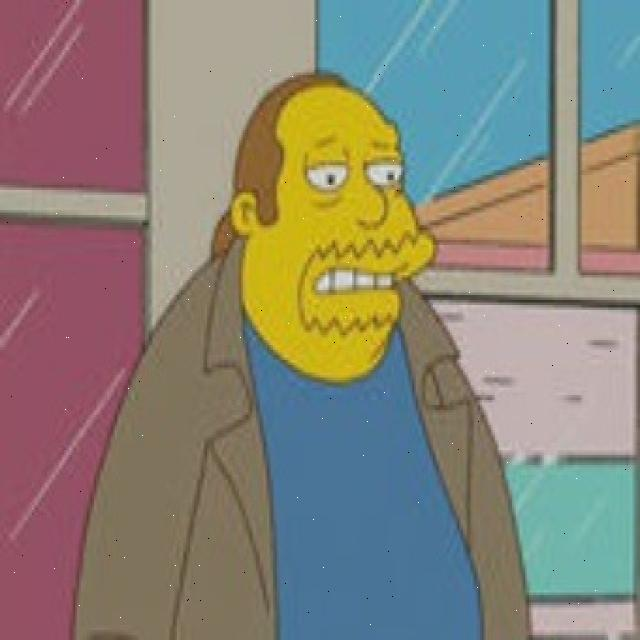Comic Book Guy: (207, 68, 441, 392)
